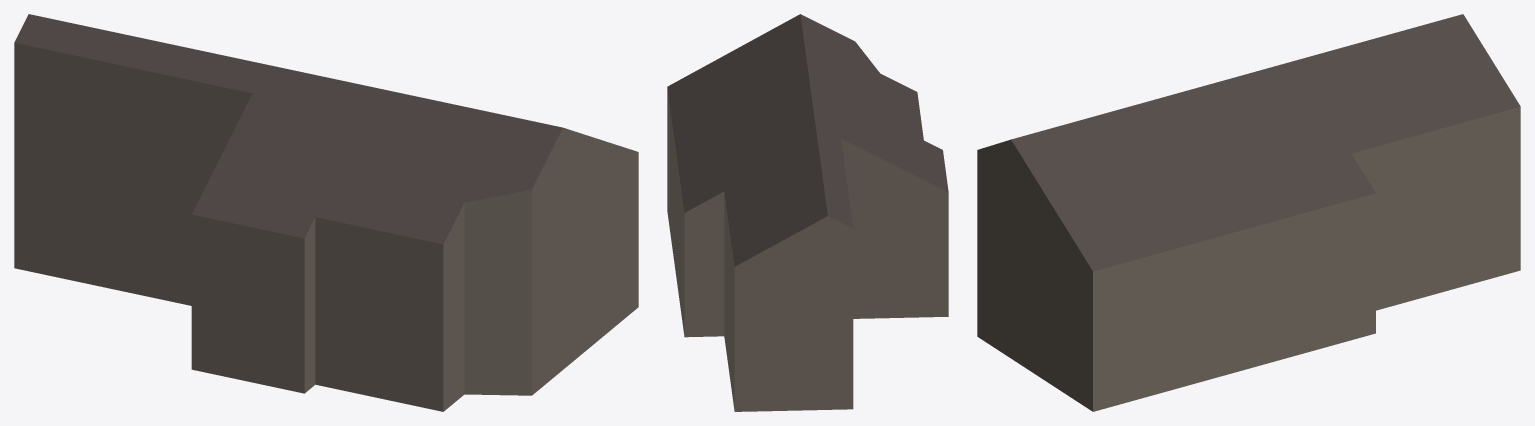
3 renders of one model, left to right at view 1: azimuth 30°, elevation 25°; view 2: azimuth 150°, elevation 25°; view 3: azimuth 270°, elevation 25°, orthographic. The views are drawn at different scales.
Visible parts, largest first — view 1: HP-w1512468501; view 2: HP-w1512468501; view 3: HP-w1512468501.
Boxes of the visible parts, bbox=[...] form: HP-w1512468501: bbox=[14, 14, 638, 411]; HP-w1512468501: bbox=[667, 14, 948, 411]; HP-w1512468501: bbox=[977, 14, 1520, 411].
Bounding box in the file's own units: 26.02 × 14.06 × 31.61.
